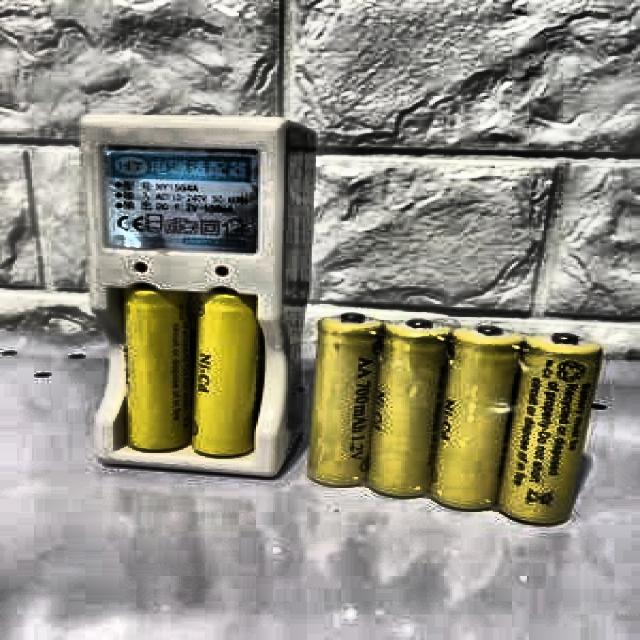Non-Valuable Waste - Batteries: (498, 334, 602, 523), (430, 326, 522, 509), (368, 320, 450, 496), (308, 314, 382, 486), (192, 292, 260, 456), (123, 289, 188, 450)
